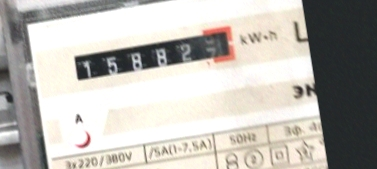1: (80, 58, 91, 78)
2: (177, 41, 192, 62)
5: (102, 54, 118, 75)
7: (202, 44, 216, 58)
8: (152, 45, 168, 67), (128, 49, 143, 71)
screen: (66, 23, 239, 88)
